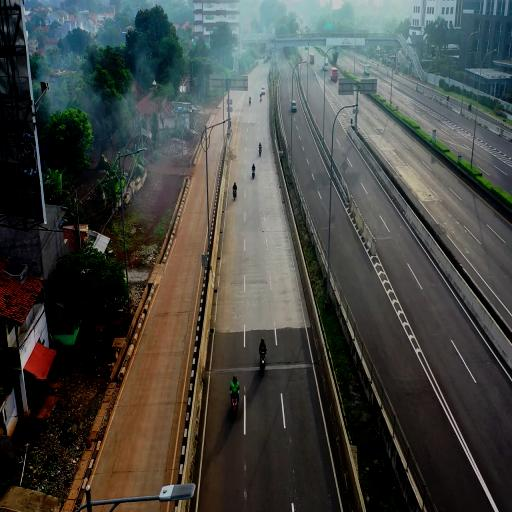vehicle: (230, 394, 237, 419), (259, 351, 265, 374), (329, 67, 337, 82), (290, 101, 295, 113), (322, 60, 327, 71), (364, 65, 369, 76), (308, 53, 313, 64), (260, 87, 264, 95), (258, 146, 261, 156), (232, 190, 235, 200), (251, 170, 254, 179), (248, 97, 250, 105)
